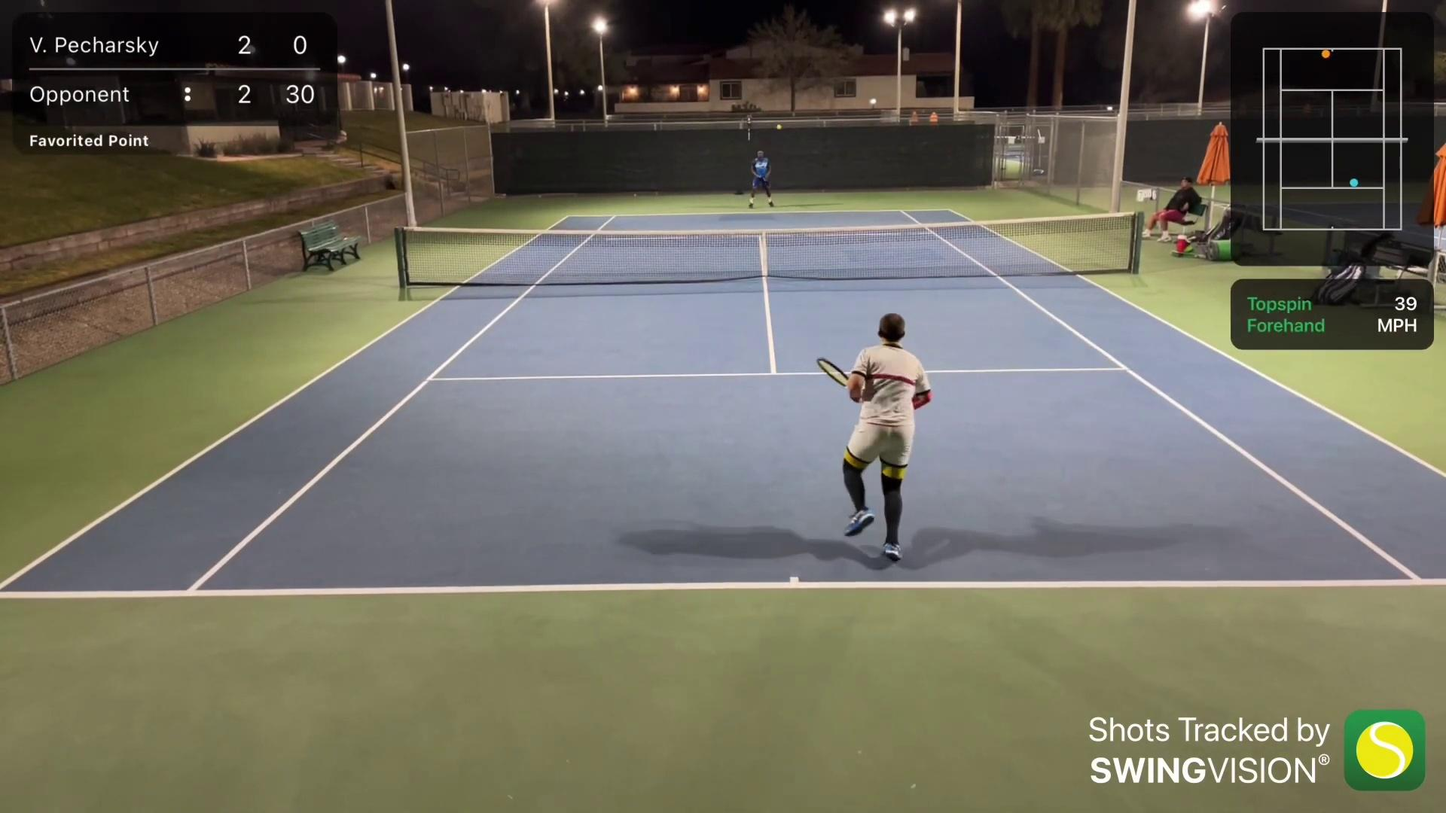ball: (775, 125, 782, 130)
